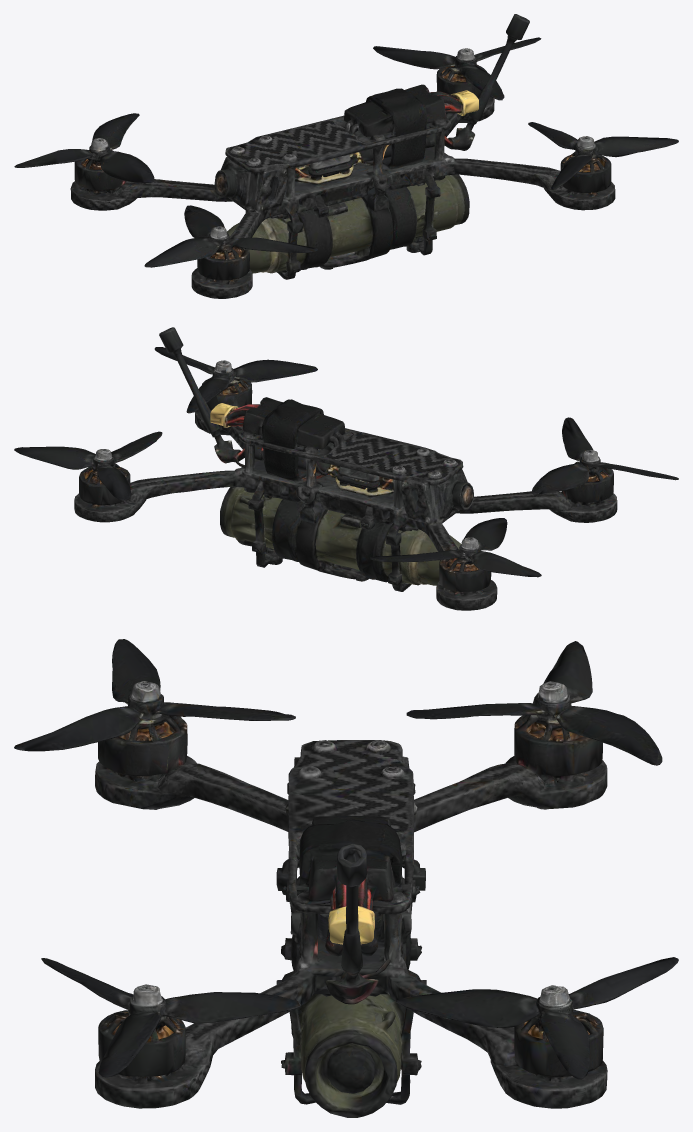
File: fpv_drone.glb
3 renders of one model, top to bottom at view 1: azimuth 30°, elevation 25°; view 2: azimuth 150°, elevation 25°; view 3: azimuth 270°, elevation 25°, orthographic. The views are drawn at different scales.
Size of the model in its own units: 1.9 by 0.7021 by 1.22.
Materials: 1 (1 with a texture image).
